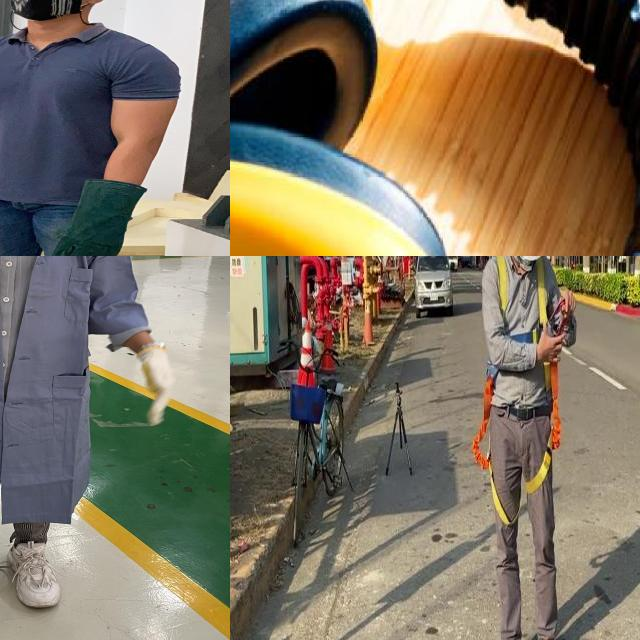Ear-protection: (230, 0, 640, 256)
Harness: (472, 375, 518, 526), (526, 363, 562, 494), (497, 256, 549, 343)
face_mask: (6, 0, 89, 17)
hand_glove: (51, 178, 150, 256), (128, 351, 184, 428)
person: (0, 256, 190, 626), (0, 0, 179, 256)
shoes: (0, 537, 64, 613)
